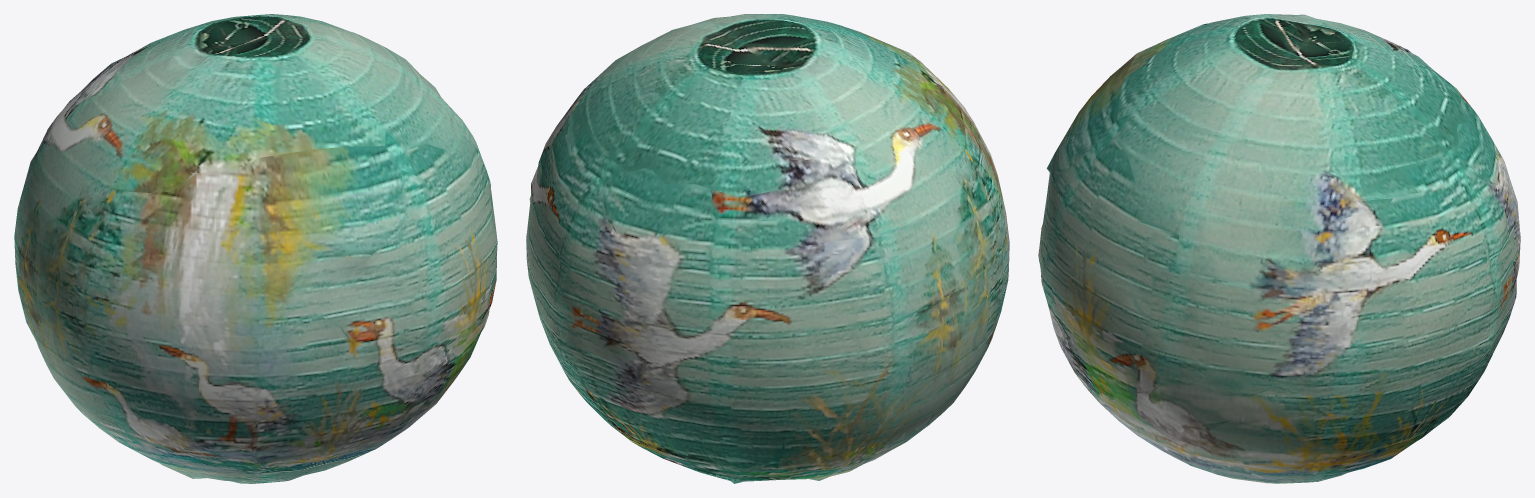
The model's file is AS2 Kyra Birds.glb.
3 renders of one model, left to right at view 1: azimuth 30°, elevation 25°; view 2: azimuth 150°, elevation 25°; view 3: azimuth 270°, elevation 25°, orthographic.
Size of the model in its own units: 1000 by 934 by 986.
1 material, 1 textured.
